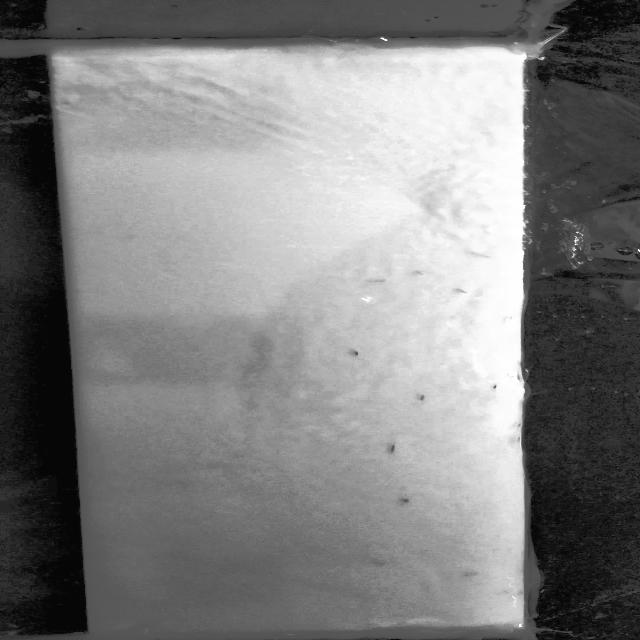shrimp: (408, 394, 437, 405), (362, 274, 393, 284), (394, 494, 417, 505), (449, 287, 474, 297), (384, 441, 399, 454), (490, 379, 502, 390), (408, 270, 429, 276), (351, 348, 362, 356)
